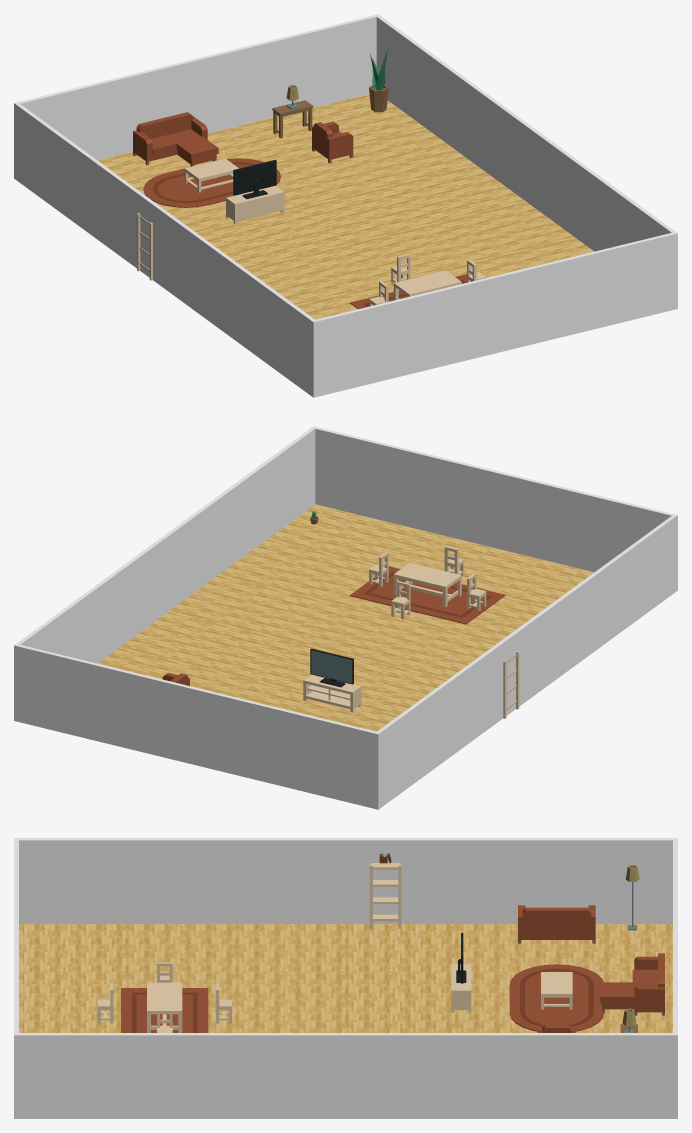
The model's file is bigroom.glb.
3 views of the same model, one above another, from view 1: azimuth 30°, elevation 25°; view 2: azimuth 150°, elevation 25°; view 3: azimuth 270°, elevation 25° (orthographic). The views are drawn at different scales.
Visible parts, largest first — view 1: geometry_0, geometry_2, geometry_3, geometry_1, geometry_4, node_1, node, cabinetTelevision.obj, node_4, node_3, table.obj, tableCoffee.obj (+2 smaller); view 2: geometry_0, geometry_1, geometry_2, geometry_3, geometry_4, node_10, table.obj, cabinetTelevision.obj, node_4, bookcaseOpen.obj; view 3: geometry_4, geometry_0, geometry_3, node, node_1, node_10, node_2, geometry_1, geometry_2, table.obj, bookcaseOpen.obj, tableCoffee.obj (+1 smaller).
Boxes of the visible parts, x1,y1,x2,y2 form: geometry_0: (98,94,593,319); geometry_2: (311,232,677,397); geometry_3: (15,103,314,395); geometry_1: (14,14,379,179); geometry_4: (376,15,675,251); node_1: (133,112,218,166); node: (143,158,280,207); cabinetTelevision.obj: (226,185,284,224); node_4: (233,159,276,199); node_3: (312,121,353,163); table.obj: (393,270,461,300); tableCoffee.obj: (184,158,238,192); geometry_0: (98,504,593,731); geometry_1: (14,644,380,809); geometry_2: (311,426,677,591); geometry_3: (377,515,676,807); geometry_4: (16,427,315,663); node_10: (350,566,505,624); table.obj: (393,562,461,607); cabinetTelevision.obj: (303,674,361,712); node_4: (310,648,353,687); bookcaseOpen.obj: (503,651,519,718); geometry_4: (16,1033,675,1118); geometry_0: (19,924,672,1032); geometry_3: (17,838,675,923); node: (509,964,604,1031); node_1: (600,953,664,1015); node_10: (121,988,208,1032); node_2: (518,905,595,943); geometry_1: (673,838,677,1118); geometry_2: (14,838,18,1118); table.obj: (147,982,182,1032); bookcaseOpen.obj: (369,863,401,928); tableCoffee.obj: (541,972,572,1009).
Bounding box in the file's own units: 14.22 × 2.8 × 20.15.
12 materials, 10 textured.
